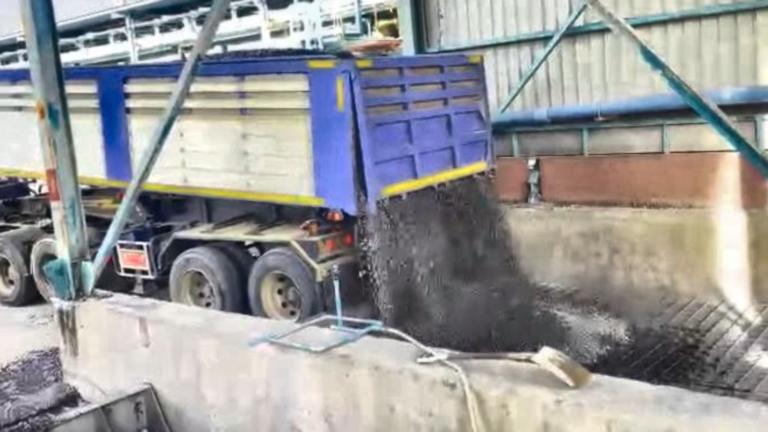gravel: (365, 178, 597, 361), (0, 349, 79, 432)
